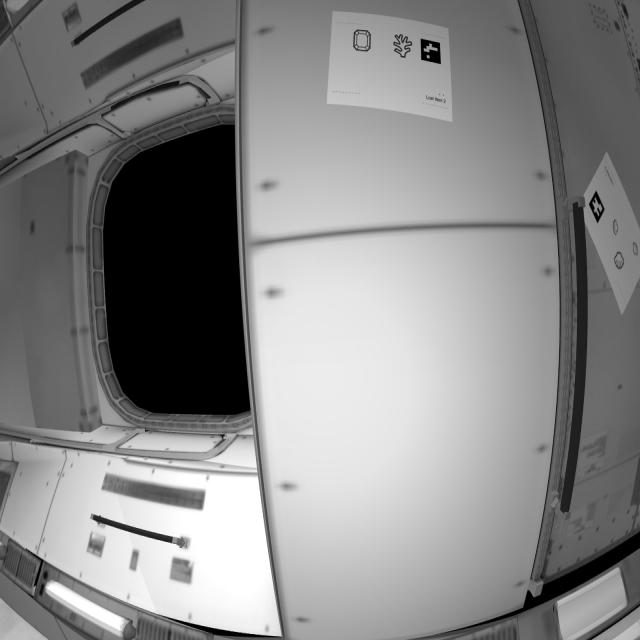coral: (391, 27, 416, 68)
emerald: (350, 29, 374, 56)
shell: (613, 252, 627, 274), (612, 219, 622, 237), (633, 241, 640, 258)
